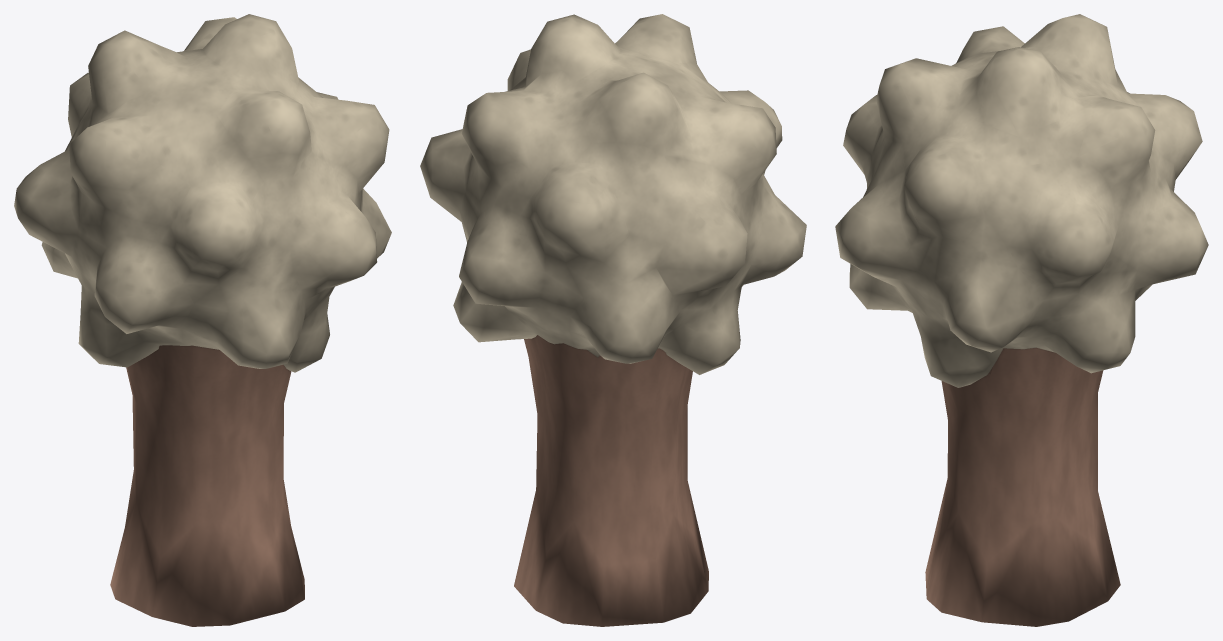
The model's file is cpart_club_tail.glb.
3 renders of one model, left to right at view 1: azimuth 30°, elevation 25°; view 2: azimuth 150°, elevation 25°; view 3: azimuth 270°, elevation 25°, orthographic.
Parts seen in each view (by area): view 1: ClubTail; view 2: ClubTail; view 3: ClubTail.
Part boxes in pixels (x1,y1,x2,y2): ClubTail: [14, 14, 391, 626]; ClubTail: [420, 14, 806, 626]; ClubTail: [835, 14, 1208, 626].
Bounding box in the file's own units: 0.115 × 0.1885 × 0.1147.
Materials: 2 (2 with a texture image).
